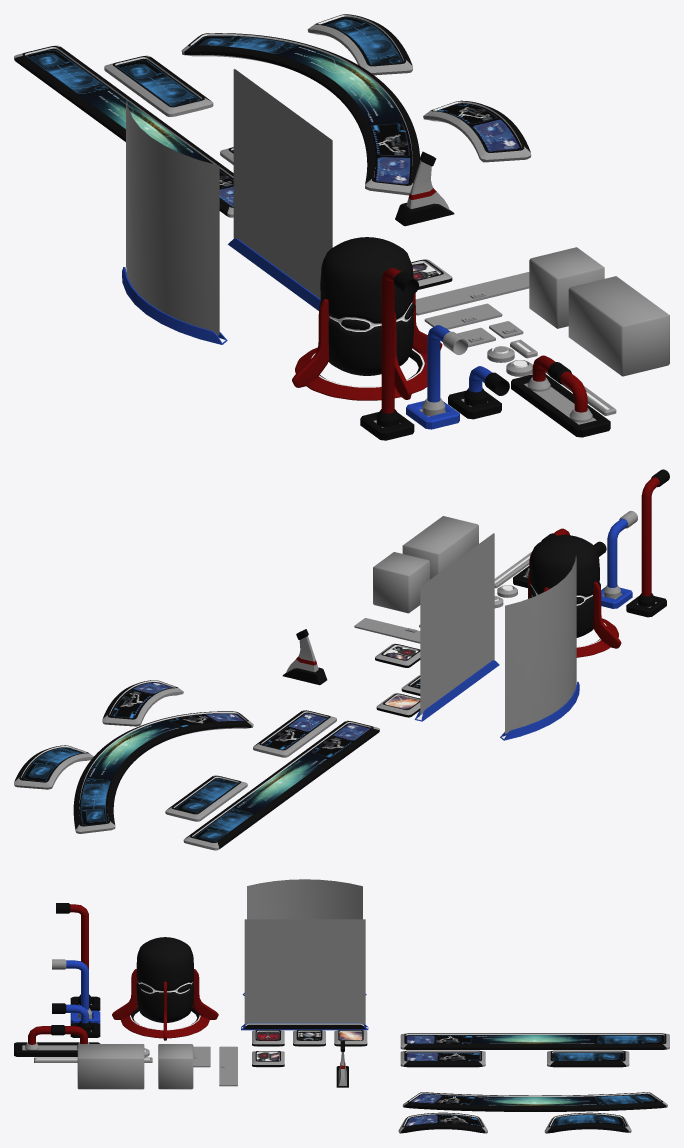
Rendered from Props.FBX.
The picture shows the model from 3 angles, top to bottom: view 1: azimuth 30°, elevation 25°; view 2: azimuth 150°, elevation 25°; view 3: azimuth 270°, elevation 25°; orthographic projection. The views are drawn at different scales.
Parts seen in each view (by area): view 1: BKG, BKG001, Props_Screen008, Props_OilTank001, Props_Box02, Props_Screen02, Props_CapsuleBig, Props_Box01, Props_Screen006, Props_Screen007, Props_Screen00, Props_Pipes03 (+13 smaller); view 2: BKG, BKG001, Props_Screen008, Props_Screen02, Props_OilTank001, Props_Box01, Props_Box02, Props_Screen006, Props_Screen01, Props_Screen007, Props_Screen00, Props_Pipes03 (+8 smaller); view 3: FRONT, Props_Screen02, FRONT001, Props_Screen008, Props_OilTank001, Props_Box02, Props_CapsuleBig, Props_Box01, Props_Screen01, Props_Screen00, Props_Screen006, Props_Screen007 (+12 smaller).
Part boxes in pixels (bbox=[...]): BKG: bbox=[233, 69, 331, 298]; BKG001: bbox=[126, 98, 218, 335]; Props_Screen008: bbox=[181, 33, 420, 195]; Props_OilTank001: bbox=[319, 237, 414, 375]; Props_Box02: bbox=[568, 276, 669, 376]; Props_Screen02: bbox=[14, 45, 233, 217]; Props_CapsuleBig: bbox=[292, 293, 442, 400]; Props_Box01: bbox=[529, 247, 604, 328]; Props_Screen006: bbox=[423, 100, 531, 162]; Props_Screen007: bbox=[307, 14, 412, 75]; Props_Screen00: bbox=[104, 55, 213, 116]; Props_Pipes03: bbox=[376, 267, 418, 427]; BKG: bbox=[421, 533, 494, 714]; BKG001: bbox=[505, 555, 576, 733]; Props_Screen008: bbox=[73, 711, 253, 833]; Props_Screen02: bbox=[183, 720, 379, 850]; Props_OilTank001: bbox=[528, 535, 600, 637]; Props_Box01: bbox=[373, 552, 429, 613]; Props_Box02: bbox=[402, 516, 478, 579]; Props_Screen006: bbox=[102, 680, 183, 726]; Props_Screen01: bbox=[253, 710, 336, 757]; Props_Screen007: bbox=[14, 745, 93, 789]; Props_Screen00: bbox=[165, 775, 247, 821]; Props_Pipes03: bbox=[638, 469, 669, 606]; FRONT: bbox=[244, 919, 365, 1024]; Props_Screen02: bbox=[400, 1033, 669, 1049]; FRONT001: bbox=[247, 879, 362, 919]; Props_Screen008: bbox=[402, 1092, 667, 1111]; Props_OilTank001: bbox=[136, 937, 193, 1022]; Props_Box02: bbox=[77, 1044, 144, 1089]; Props_CapsuleBig: bbox=[112, 969, 218, 1040]; Props_Box01: bbox=[158, 1044, 193, 1089]; Props_Screen01: bbox=[400, 1050, 485, 1067]; Props_Screen00: bbox=[547, 1050, 629, 1067]; Props_Screen006: bbox=[398, 1112, 487, 1133]; Props_Screen007: bbox=[544, 1112, 631, 1133].
Size of the model in its own units: 468 by 916 by 192.
